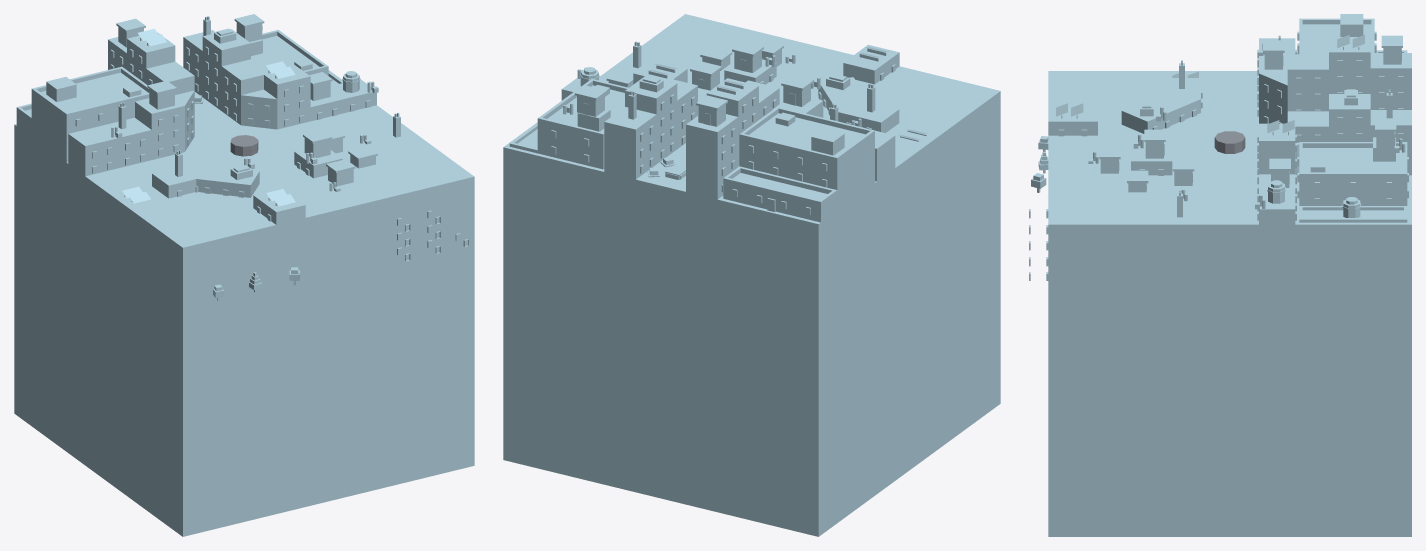
Rendered from block_16_undergroundtanks_100.glb.
3 renders of one model, left to right at view 1: azimuth 30°, elevation 25°; view 2: azimuth 150°, elevation 25°; view 3: azimuth 270°, elevation 25°, orthographic. The views are drawn at different scales.
Parts seen in each view (by area): view 1: Patch_MidRight_b18_UT, Cerda_MidRight_b18_UT, Insets_MidRight_b18_UT, CerdaRoofProps_MidRight_b18_UT, Green_MidRight_b18_UT, UT_TankUnit_16; view 2: Patch_MidRight_b18_UT, Cerda_MidRight_b18_UT, Insets_MidRight_b18_UT, CerdaRoofProps_MidRight_b18_UT; view 3: Patch_MidRight_b18_UT, Cerda_MidRight_b18_UT, Insets_MidRight_b18_UT, CerdaRoofProps_MidRight_b18_UT, UT_TankUnit_16.
Boxes of the visible parts, <box> form: Patch_MidRight_b18_UT: <box>14,70,474,536</box>; Cerda_MidRight_b18_UT: <box>68,29,380,288</box>; Insets_MidRight_b18_UT: <box>16,30,468,273</box>; CerdaRoofProps_MidRight_b18_UT: <box>111,14,400,206</box>; Green_MidRight_b18_UT: <box>121,263,286,311</box>; UT_TankUnit_16: <box>230,135,258,156</box>; Patch_MidRight_b18_UT: <box>503,14,1000,536</box>; Cerda_MidRight_b18_UT: <box>561,44,942,215</box>; Insets_MidRight_b18_UT: <box>509,79,874,244</box>; CerdaRoofProps_MidRight_b18_UT: <box>563,40,927,141</box>; Patch_MidRight_b18_UT: <box>1048,71,1411,536</box>; Cerda_MidRight_b18_UT: <box>1048,37,1411,293</box>; Insets_MidRight_b18_UT: <box>1029,14,1408,280</box>; CerdaRoofProps_MidRight_b18_UT: <box>1056,35,1405,217</box>; UT_TankUnit_16: <box>1214,131,1245,153</box>.
Bounding box in the file's own units: 9.5 × 11.58 × 10.
